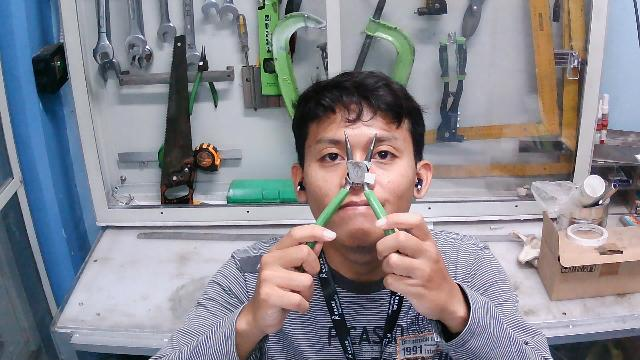tang_cucut_lancip_1: (299, 122, 411, 268)
